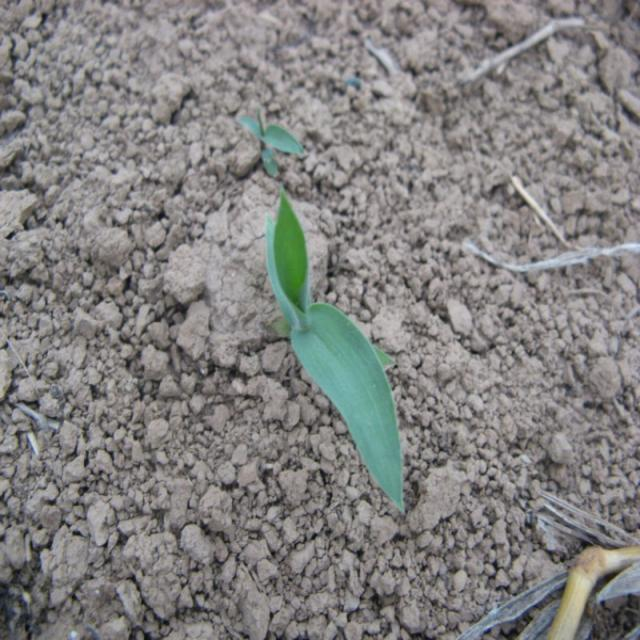bg: (262, 186, 404, 509)
